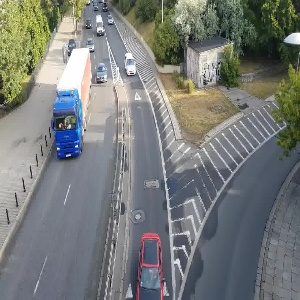semi: (50, 48, 94, 166)
